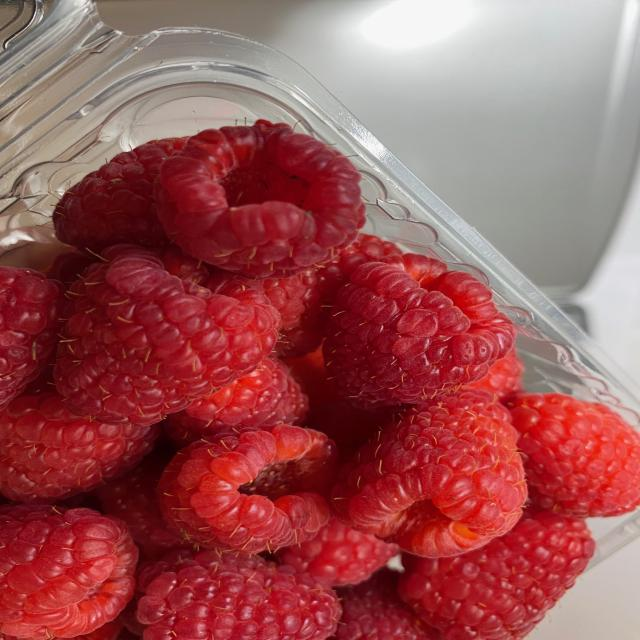raspberries: (3, 111, 566, 638)
